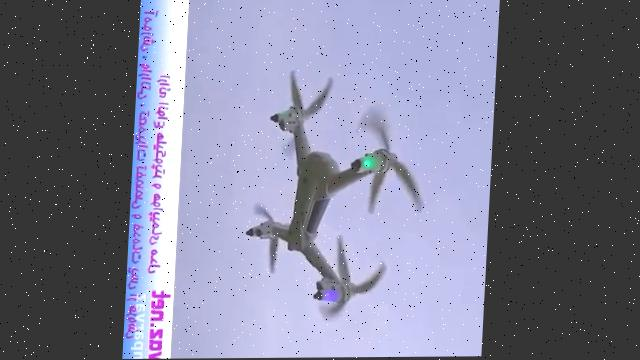drone: (237, 61, 435, 327)
